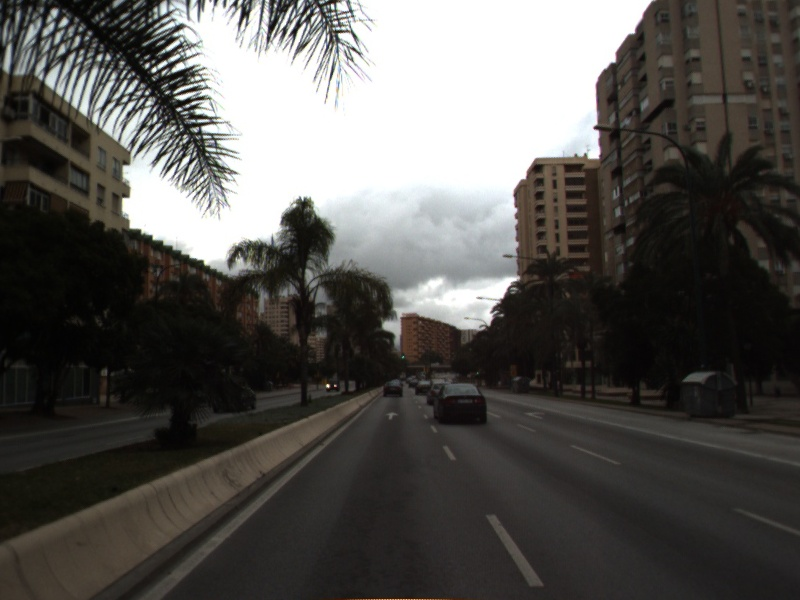RIGHT: (521, 408, 548, 421)
STRAIGHT: (382, 410, 402, 422)
